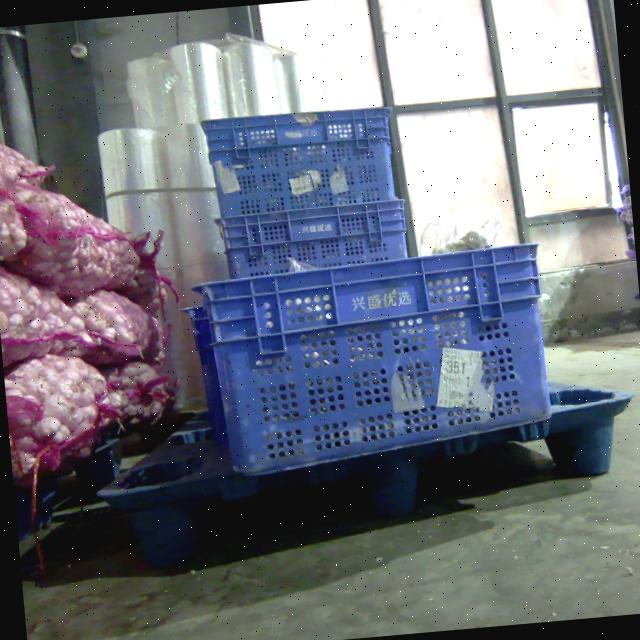block: (333, 443, 426, 529), (112, 486, 197, 565), (554, 401, 626, 482)
front: (105, 395, 632, 564)
hole pallet: (196, 481, 374, 559), (430, 435, 577, 519)
